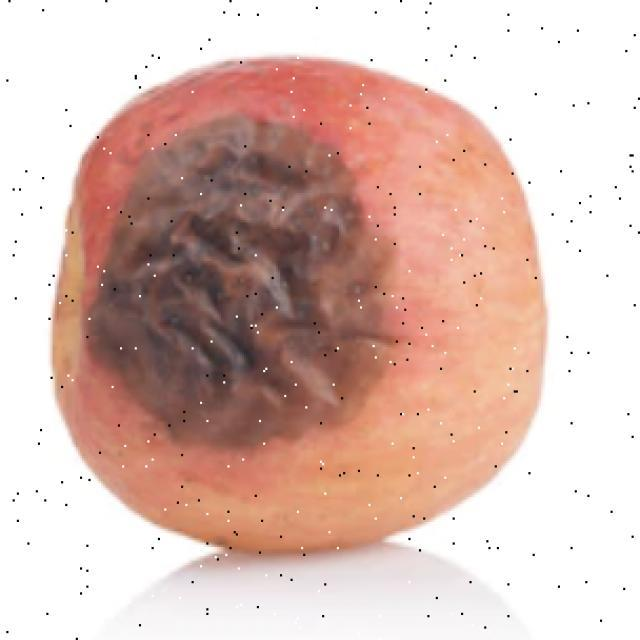Rotten: (45, 52, 570, 570)
